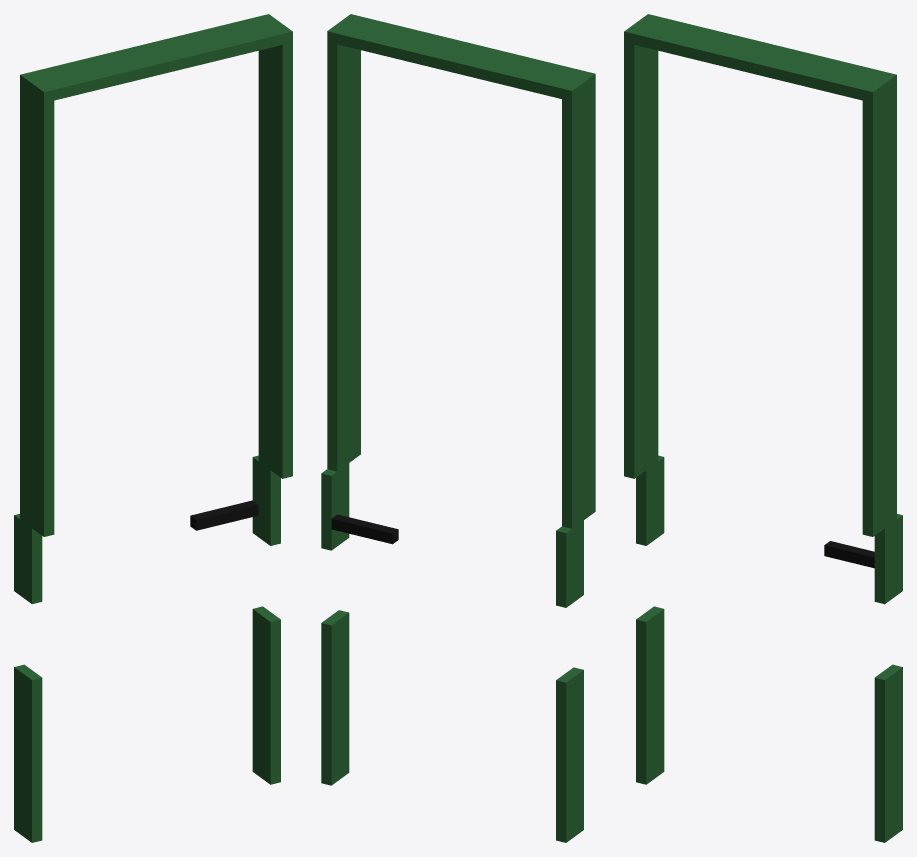
The model's file is step_van_far_door_trim.glb.
The picture shows the model from 3 angles, left to right: view 1: azimuth 30°, elevation 25°; view 2: azimuth 150°, elevation 25°; view 3: azimuth 330°, elevation 25°; orthographic projection.
Parts seen in each view (by area): view 1: body:compound; view 2: body:compound; view 3: body:compound.
Part boxes in pixels (<box>): body:compound: <box>14,14,292,842</box>; body:compound: <box>321,14,595,842</box>; body:compound: <box>624,14,902,842</box>.
Bounding box in the file's own units: 0.75 × 2.19 × 0.1562.
